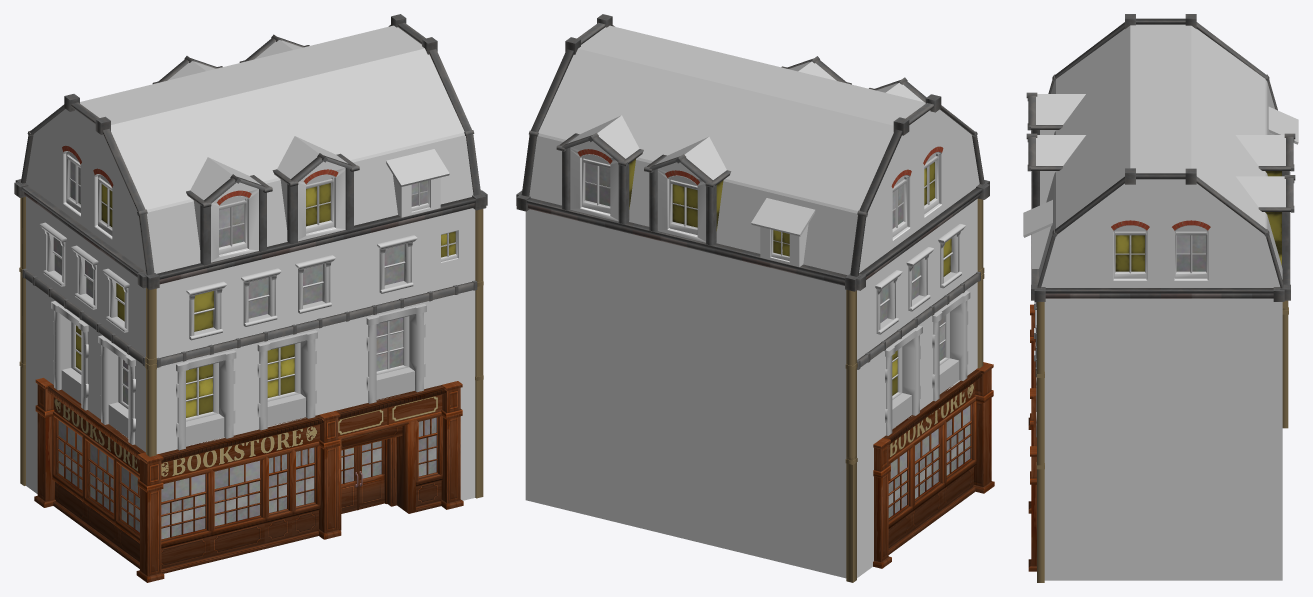
File: Building_03_Bookstore.fbx
3 renders of one model, left to right at view 1: azimuth 30°, elevation 25°; view 2: azimuth 150°, elevation 25°; view 3: azimuth 270°, elevation 25°, orthographic. The views are drawn at different scales.
Visible parts, largest first — view 1: StoreFront_01, Roof_01.002, StoreFront_02, Wall_Roof_01.001, Roof_01.003; view 2: Wall_06, Roof_01.003, StoreFront_02, Roof_01.002, Wall_Roof_01.001, StoreFront_01; view 3: Wall_05.001, Roof_01.002, Wall_Roof_02.001, Roof_01.003, StoreFront_01, StoreFront_02.
Part boxes in pixels (x1,y1,x2,y2): StoreFront_01: [136, 208, 483, 582]; Roof_01.002: [71, 22, 486, 289]; StoreFront_02: [19, 196, 145, 568]; Wall_Roof_01.001: [14, 109, 146, 288]; Roof_01.003: [15, 14, 406, 184]; Wall_06: [525, 209, 846, 578]; Roof_01.003: [516, 37, 909, 291]; StoreFront_02: [845, 199, 981, 582]; Roof_01.002: [577, 14, 989, 185]; Wall_Roof_01.001: [857, 109, 989, 290]; StoreFront_01: [973, 198, 994, 493]; Wall_05.001: [1044, 298, 1282, 580]; Roof_01.002: [1023, 14, 1191, 300]; Wall_Roof_02.001: [1034, 179, 1284, 301]; Roof_01.003: [1185, 14, 1298, 300]; StoreFront_01: [1028, 300, 1044, 582]; StoreFront_02: [1282, 300, 1288, 428].
Size of what is drawn, in the model's own units: 12.64 by 14.84 by 9.04.
